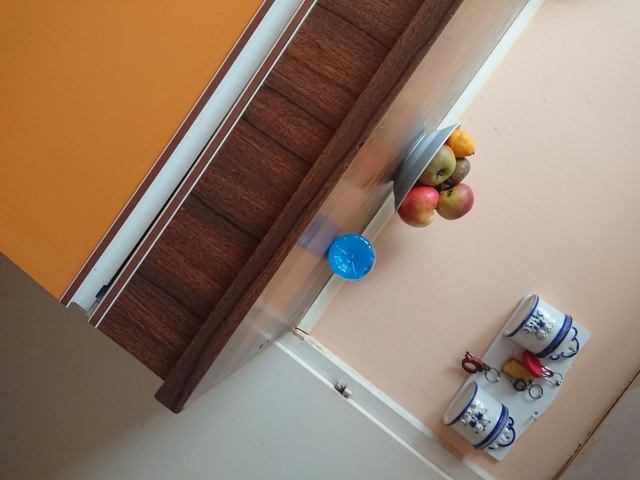Vindi Iso Sport Forest Strawberries 500mL: (325, 232, 375, 281)
